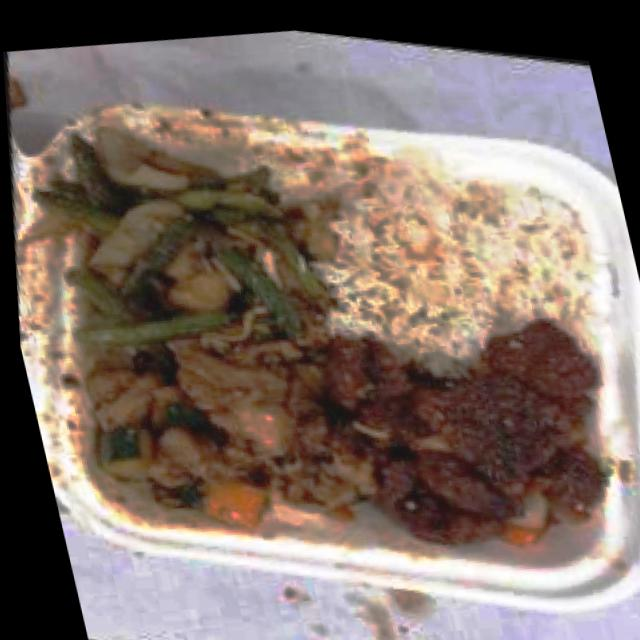Beijing Beef: (349, 294, 637, 577)
Kung Pao Chicken: (66, 306, 364, 562)
String Bean Chicken Breast: (20, 94, 334, 371)
rice: (324, 139, 610, 358)
